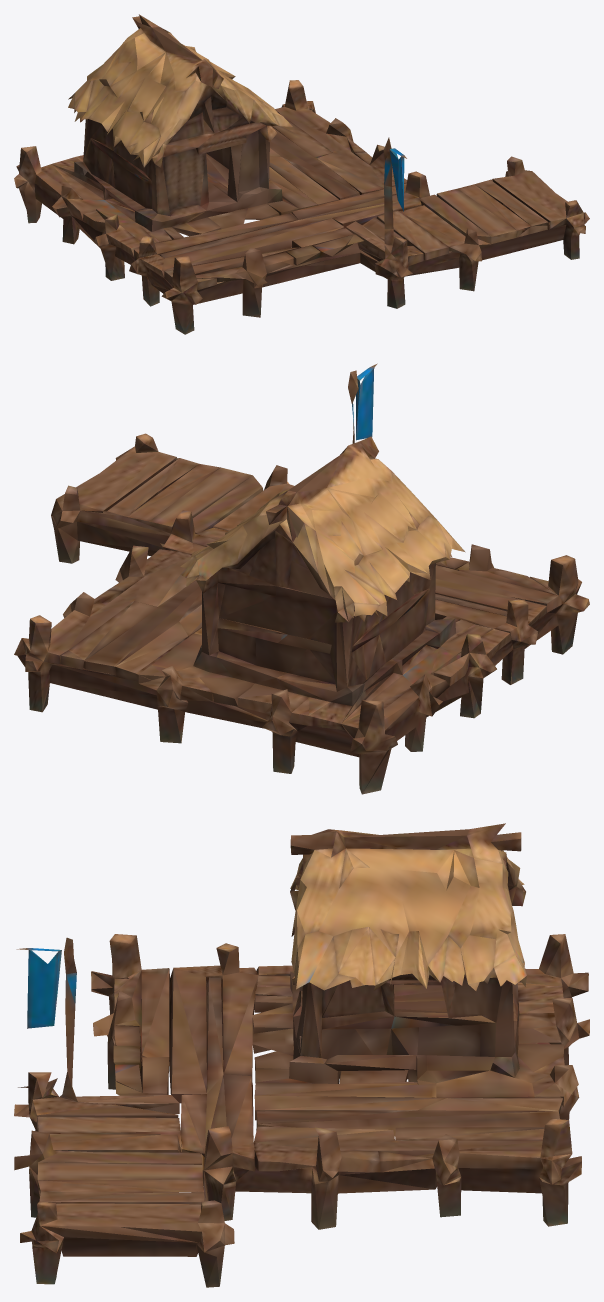
File: dock0.glb
3 renders of one model, top to bottom at view 1: azimuth 30°, elevation 25°; view 2: azimuth 150°, elevation 25°; view 3: azimuth 270°, elevation 25°, orthographic. The views are drawn at different scales.
Size of the model in its own units: 1.9 by 0.8974 by 1.67.
1 material, 1 textured.
